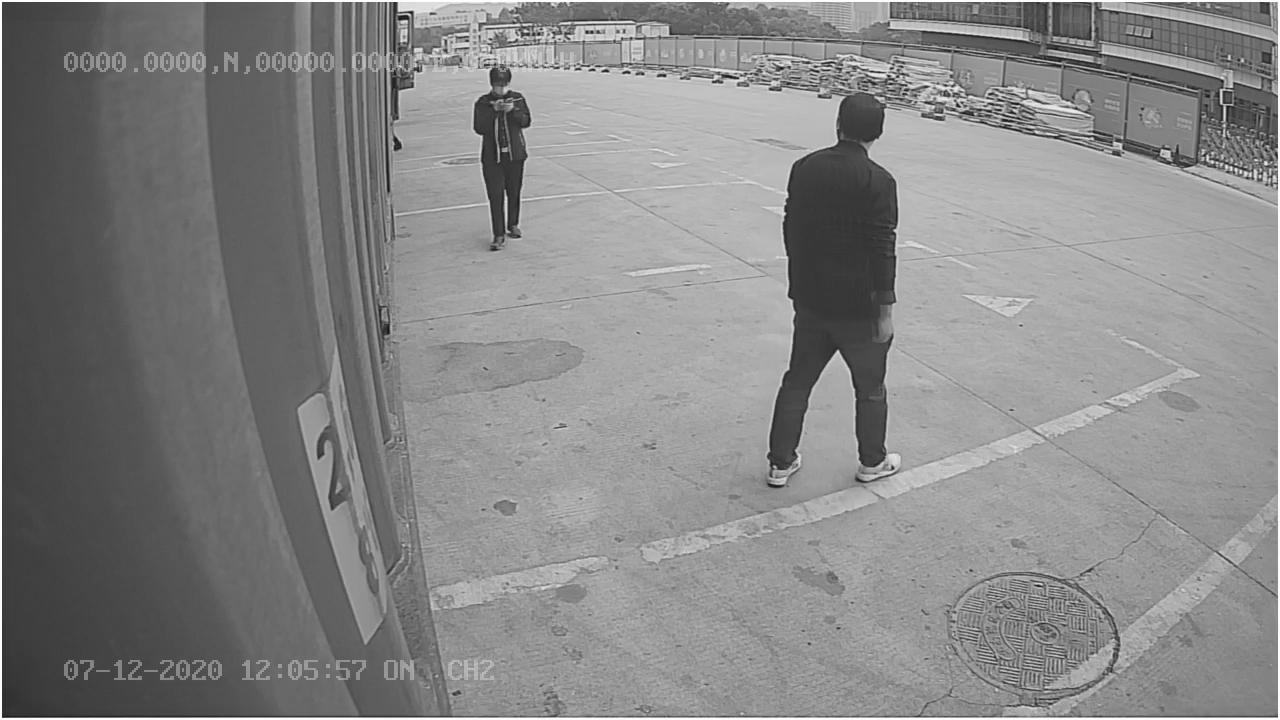person: (765, 95, 908, 495)
